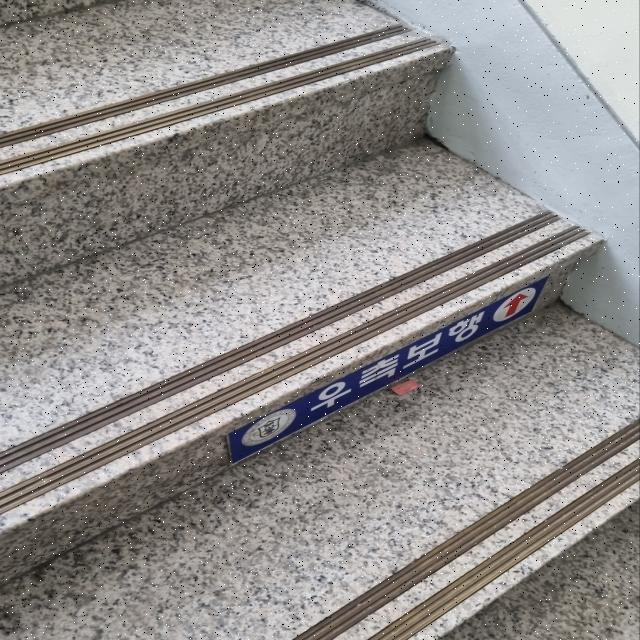logo: (238, 406, 306, 448)
